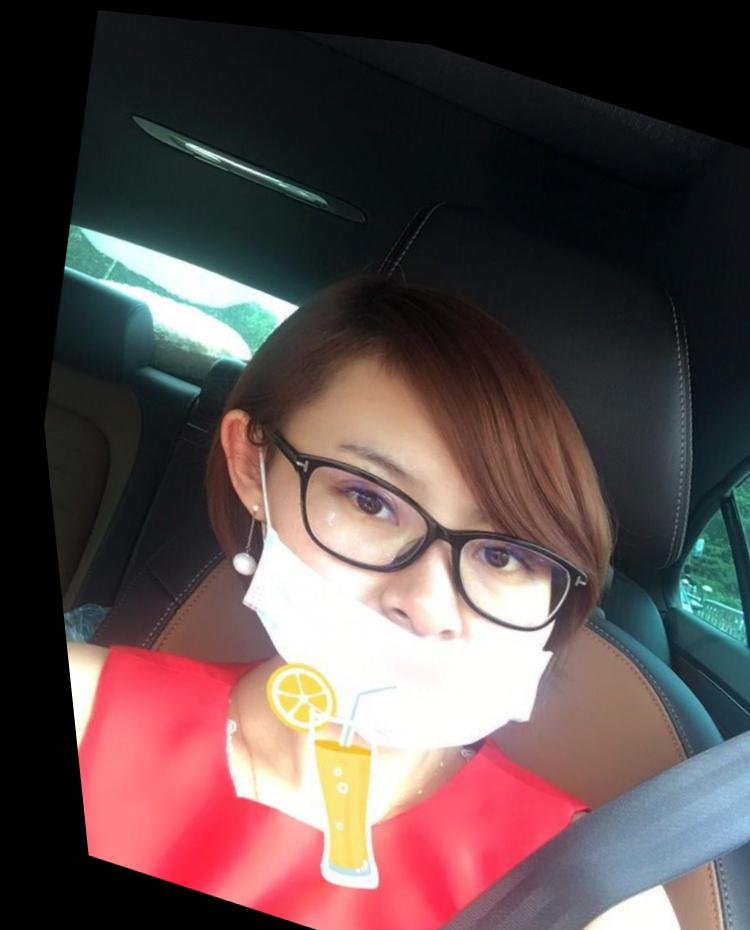WRONG: (202, 382, 588, 798)
